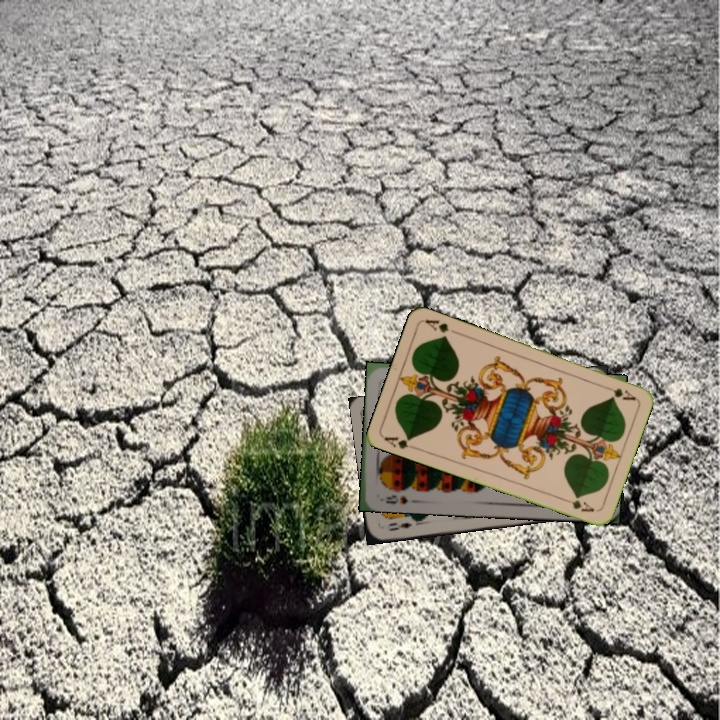EO: (385, 518, 414, 533)
GA: (380, 432, 420, 453), (599, 382, 638, 403)
S8: (382, 491, 411, 507)
